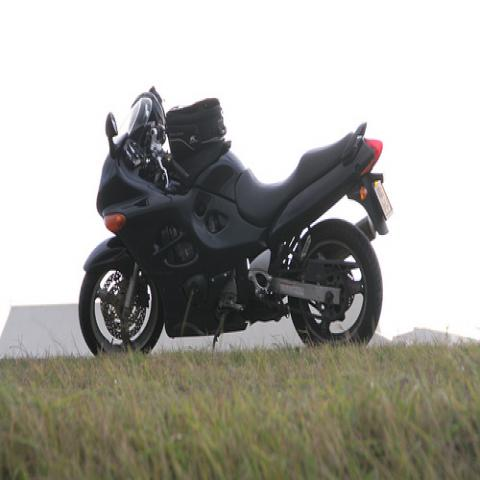motorcycle: (78, 80, 398, 364)
